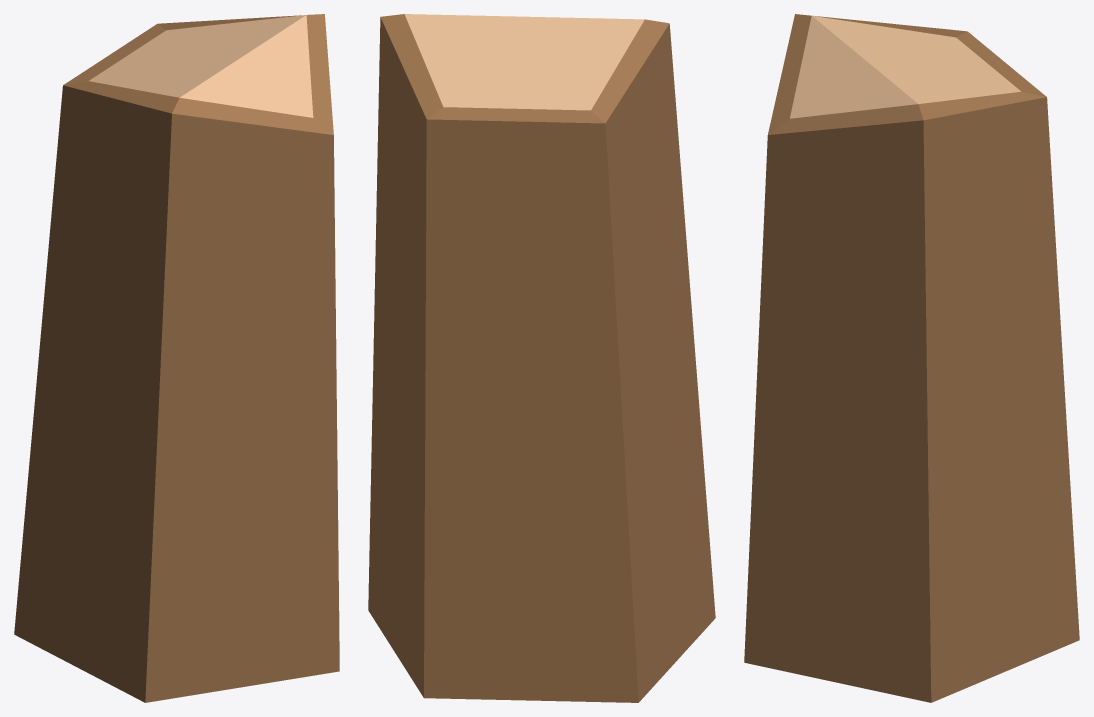
Rendered from Fir_Stump_01_LOD.fbx.
3 views of the same model, side by side, from view 1: azimuth 30°, elevation 25°; view 2: azimuth 150°, elevation 25°; view 3: azimuth 270°, elevation 25° (orthographic). The views are drawn at different scales.
Parts seen in each view (by area): view 1: Fir_Stump_01_LOD0; view 2: Fir_Stump_01_LOD0; view 3: Fir_Stump_01_LOD0.
Part boxes in pixels (x1,y1,x2,y2): Fir_Stump_01_LOD0: (14, 14, 339, 702); Fir_Stump_01_LOD0: (368, 14, 715, 702); Fir_Stump_01_LOD0: (744, 14, 1079, 702).
Size of what is drawn, in the model's own units: 45.72 by 87.9 by 45.72.
